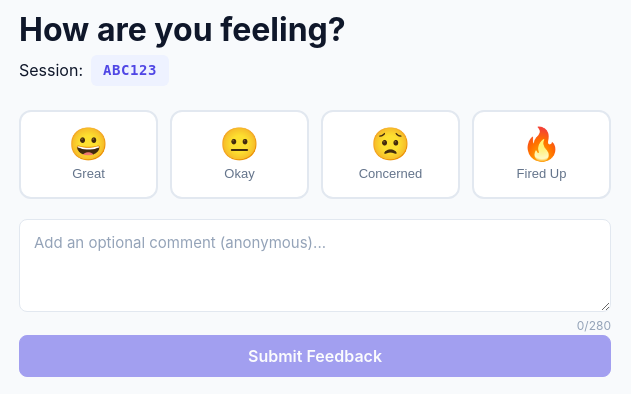
Test: Mood Submit Page › typing in textarea updates character count
In the text box with placeholder "Add an optional comment (anonymous)...": (315, 265) [19,219,611,312], type "Hello"
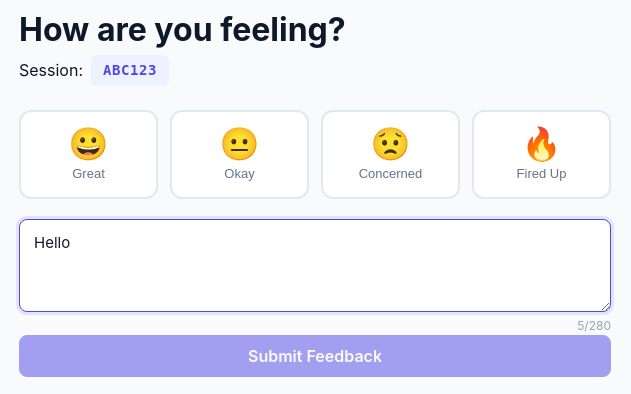
Result: the text "5/280" is shown at [577,318,611,333]
